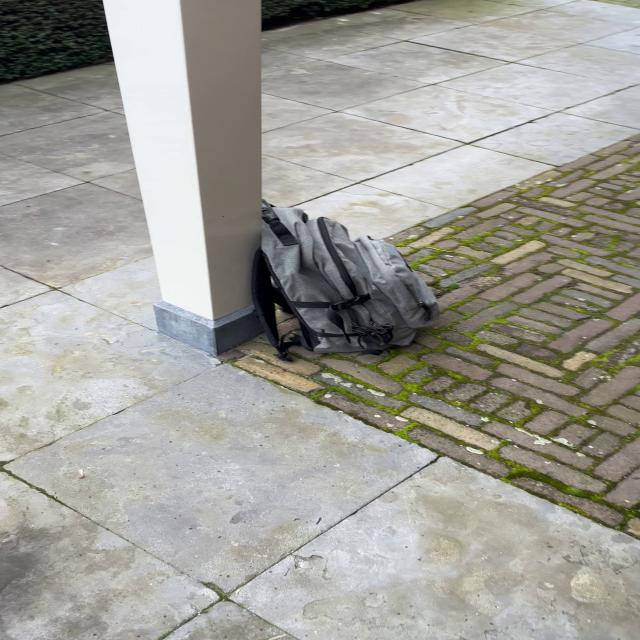backpack: (244, 199, 447, 360)
